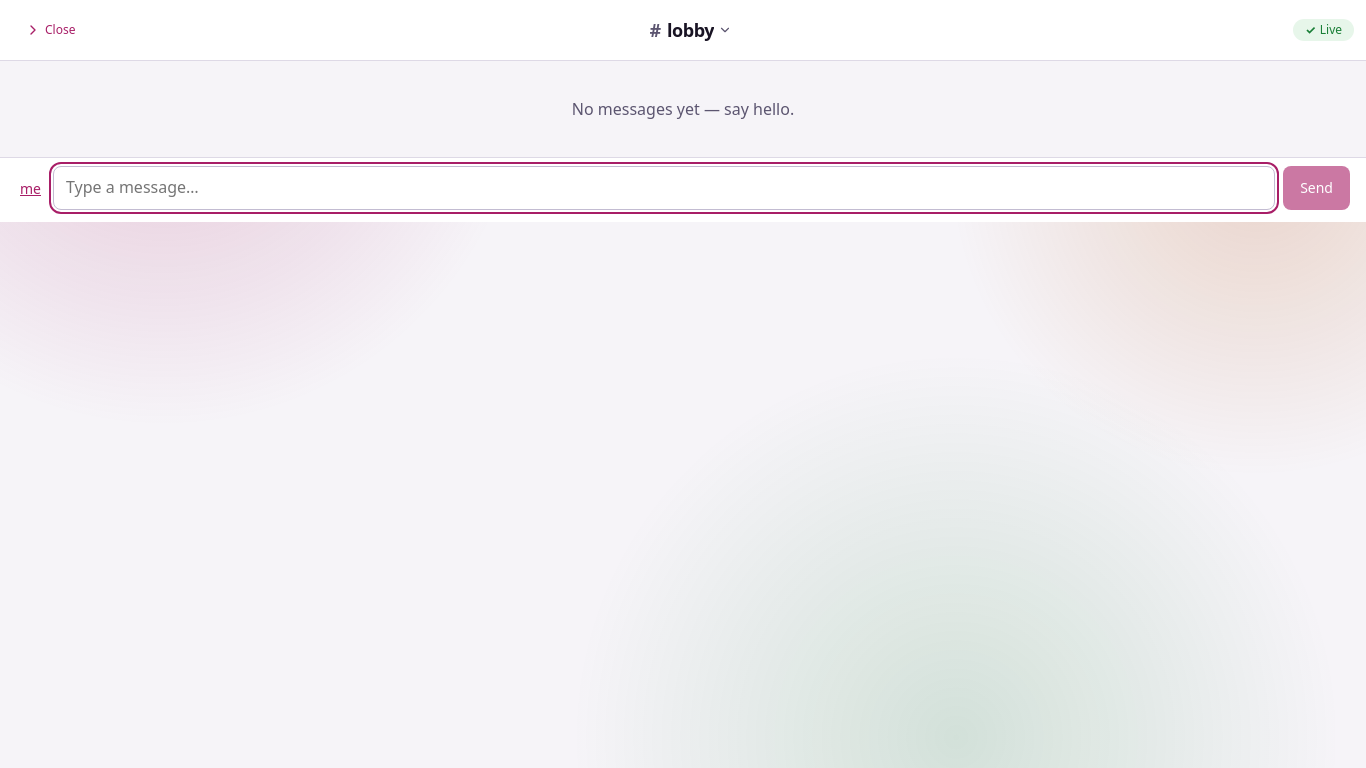
Test: ChatScreen › sends on submit and shows a gentle message on rate-limit, restoring the draft
Type "hello there" into the text box labelled "Type a message…" at x=664, y=188, box [53, 166, 1275, 210]
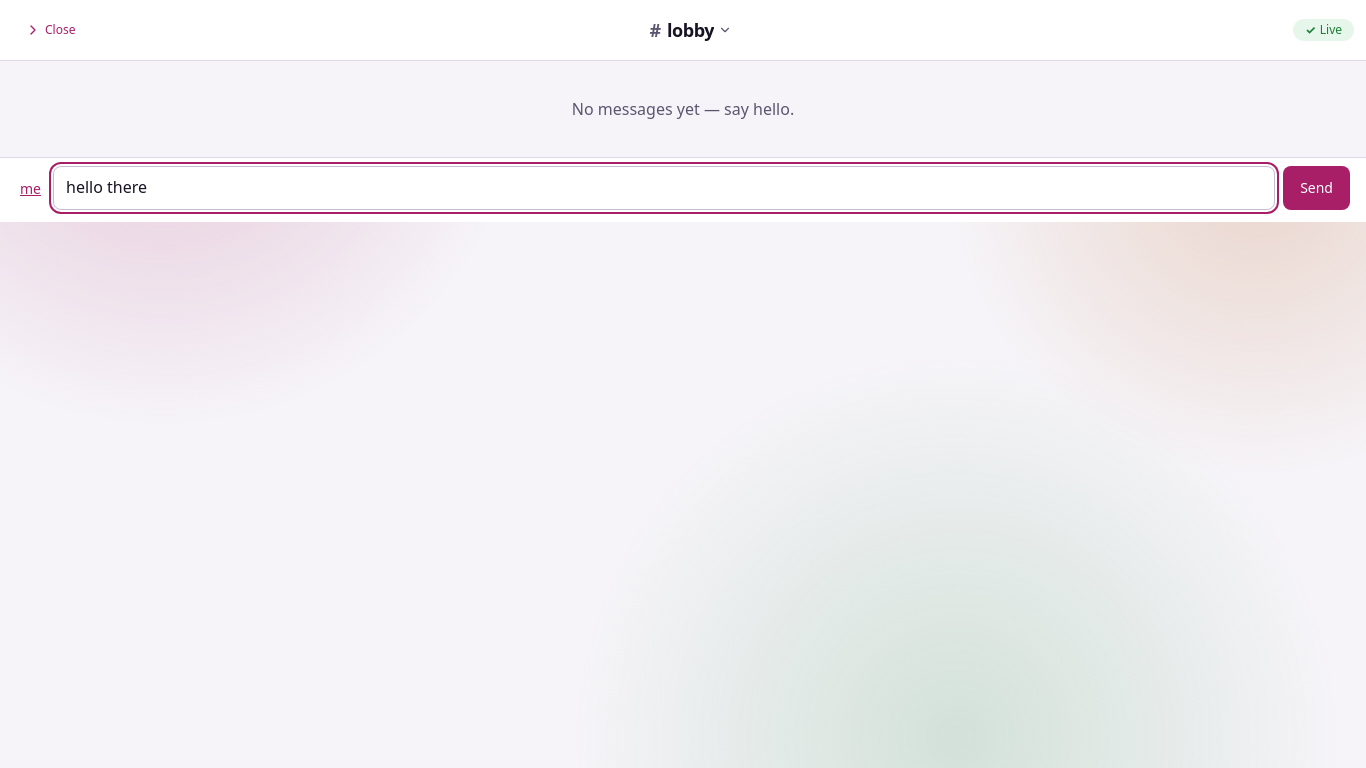
Click the button "Send" at x=1317, y=188, box [1283, 166, 1350, 210]
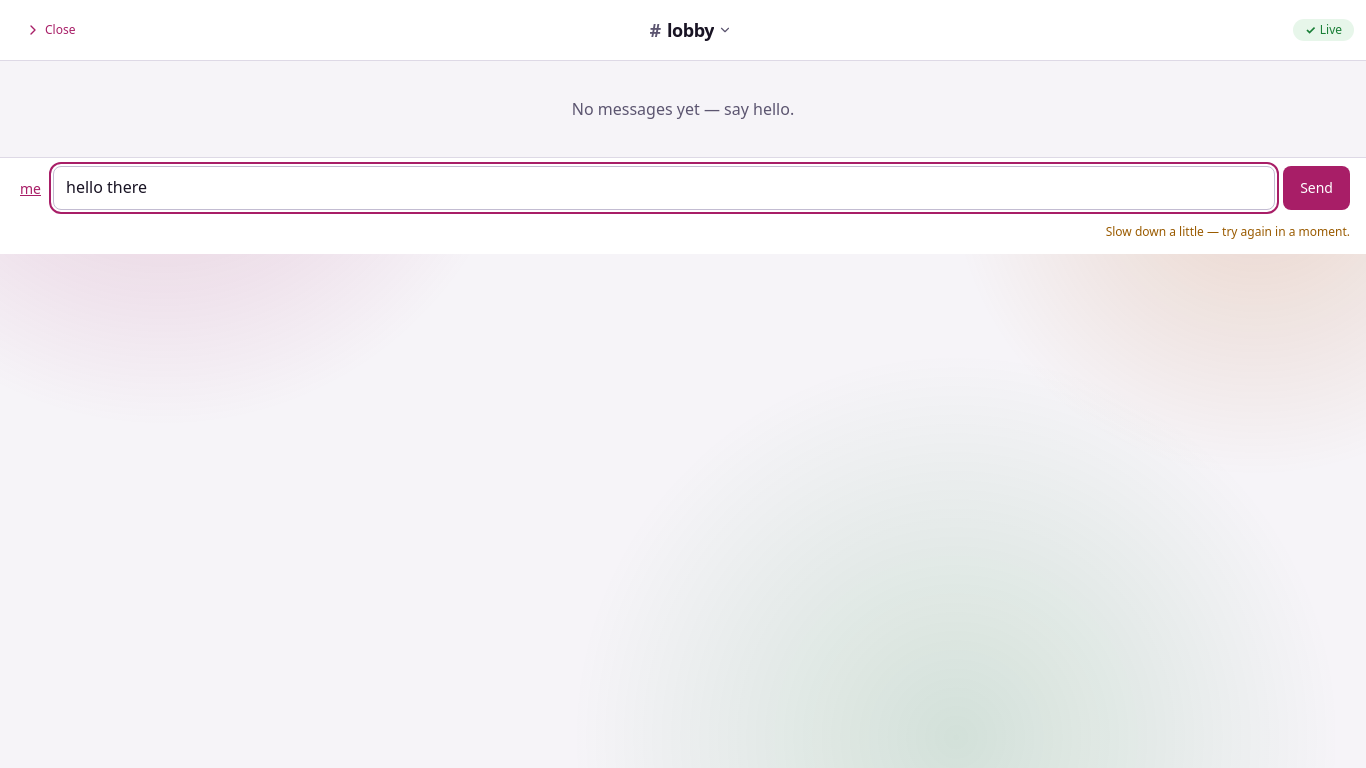
Expected: the text "Slow down a little — try again in a moment." is shown, [1106, 223, 1350, 240]
